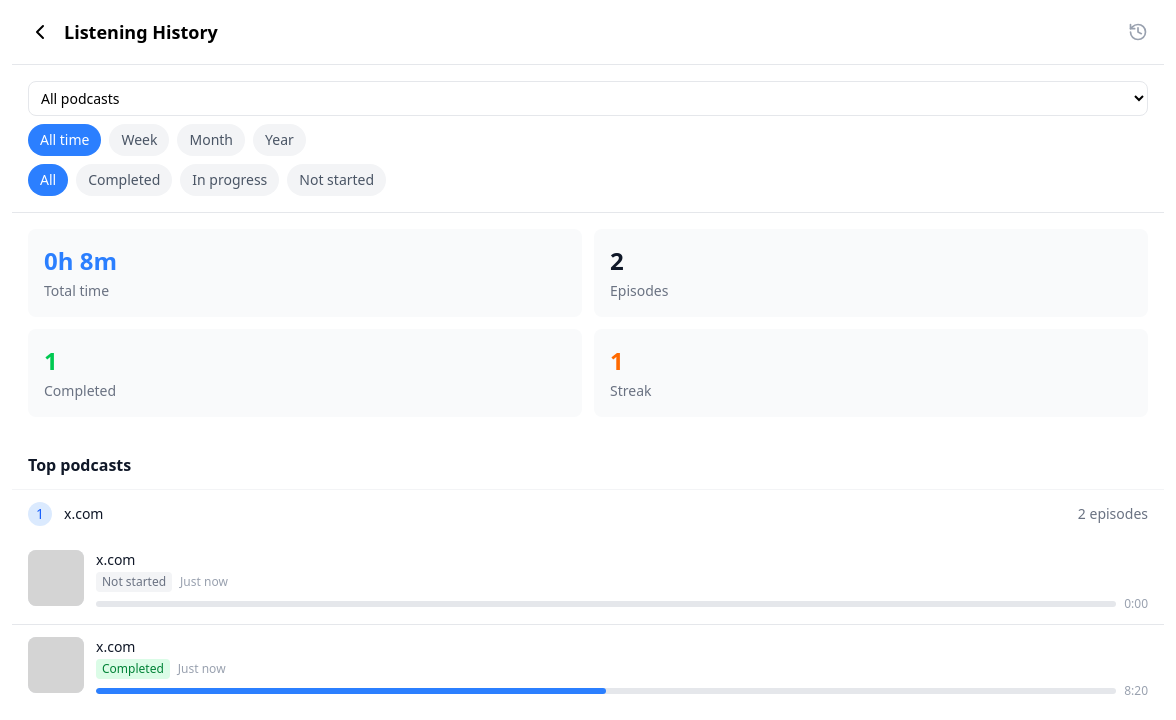
ListeningHistory › filters the list by status
Expected: the number of buttons with test id "history-row" is 2, top-left (12, 538), bottom-right (1164, 625); top-left (12, 625), bottom-right (1164, 711)
Click the button "Completed" at (124, 180), box top-left (76, 164), bottom-right (172, 196)
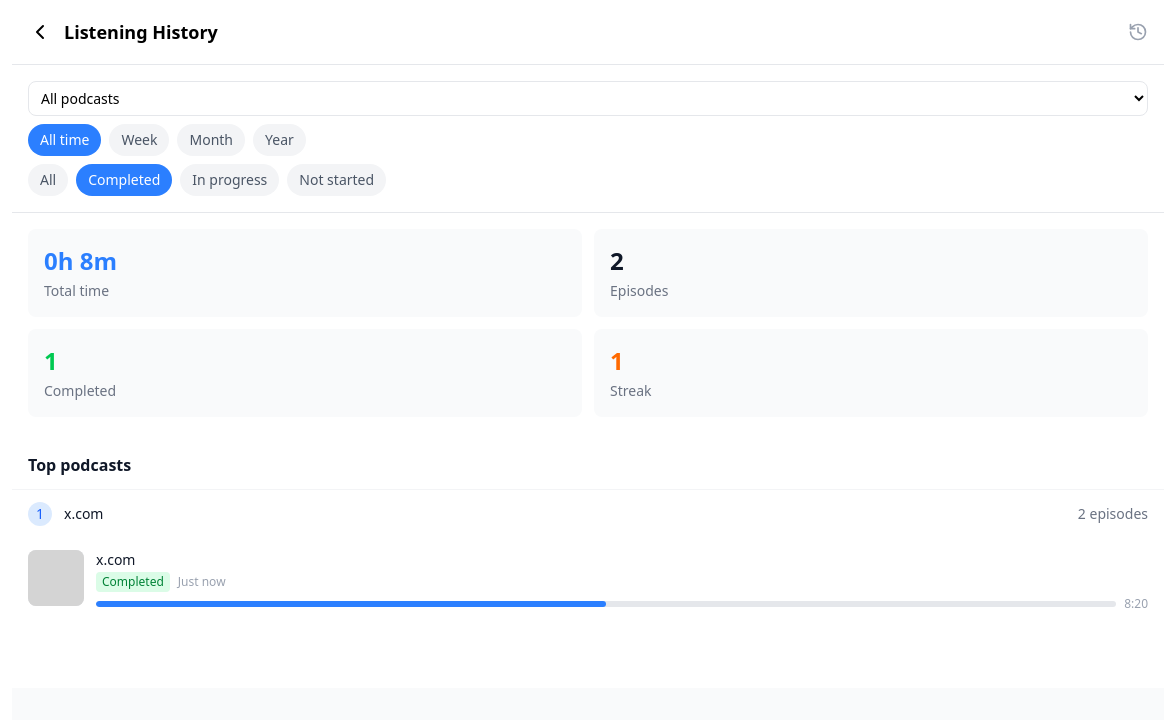
Expected: the number of buttons with test id "history-row" is 1, top-left (12, 538), bottom-right (1164, 624)
